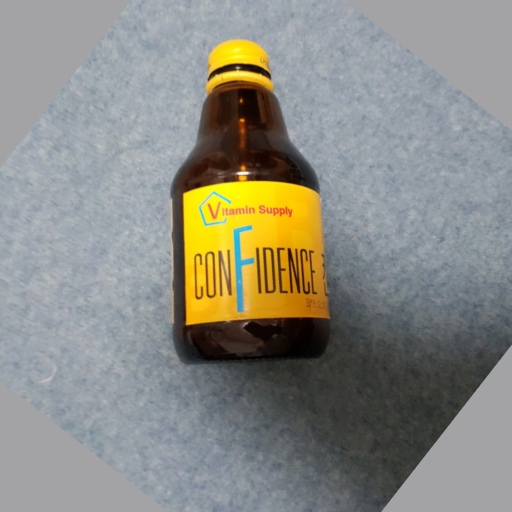Glass_3: (167, 36, 333, 365)
